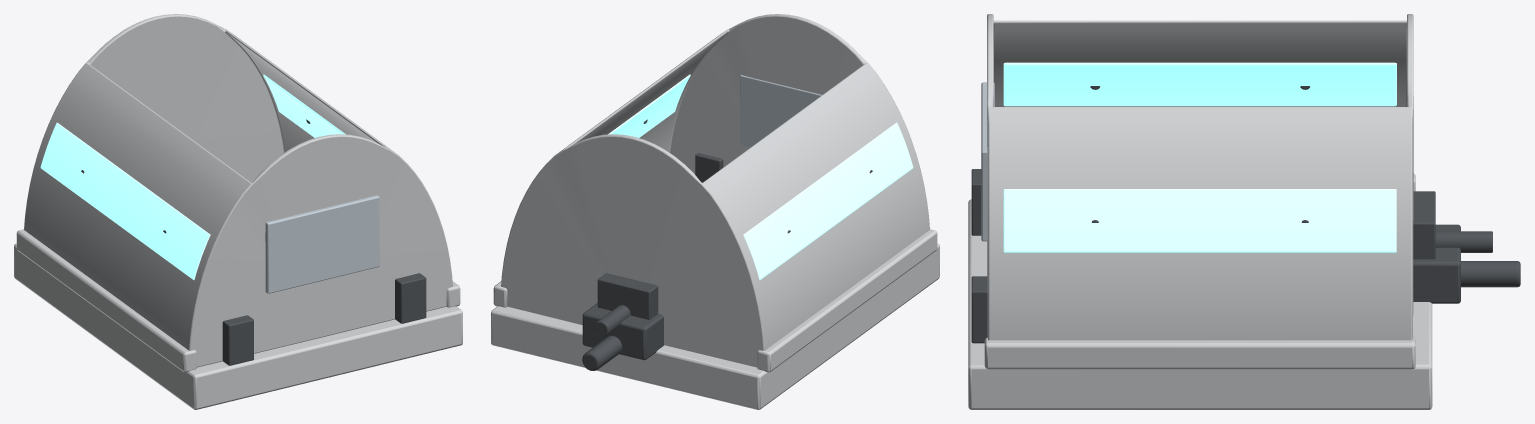
The model's file is head_coil.glb.
3 renders of one model, left to right at view 1: azimuth 30°, elevation 25°; view 2: azimuth 150°, elevation 25°; view 3: azimuth 270°, elevation 25°, orthographic. The views are drawn at different scales.
Visible parts, largest first — view 1: COIL_Top, COIL_Base; view 2: COIL_Top, COIL_Base; view 3: COIL_Top, COIL_Base.
Part boxes in pixels (x1=…): COIL_Top: x1=24, y1=14, x2=452, y2=367; COIL_Base: x1=14, y1=229, x2=462, y2=409; COIL_Top: x1=501, y1=14, x2=929, y2=367; COIL_Base: x1=491, y1=229, x2=939, y2=409; COIL_Top: x1=971, y1=14, x2=1492, y2=343; COIL_Base: x1=968, y1=173, x2=1520, y2=409.
Bounding box in the file's own units: 0.37 × 0.3 × 0.5.
